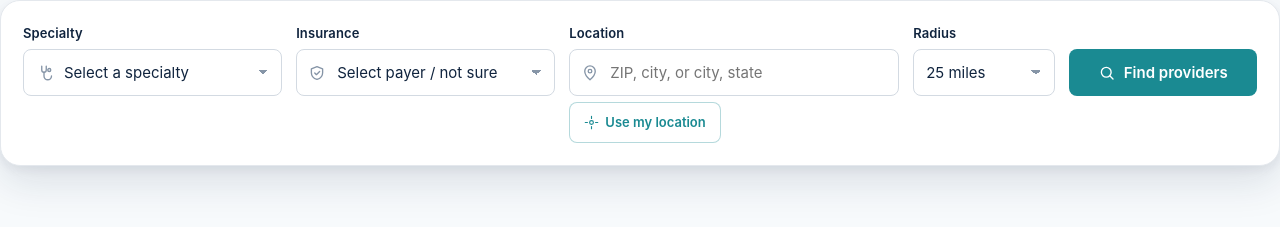
Scenario: SearchForm › shows a non-blocking message when the selected payer has no integrated plan data
Select "Aetna" in the dropdown labelled "Insurance": (426, 73) top-left (296, 49), bottom-right (555, 96)
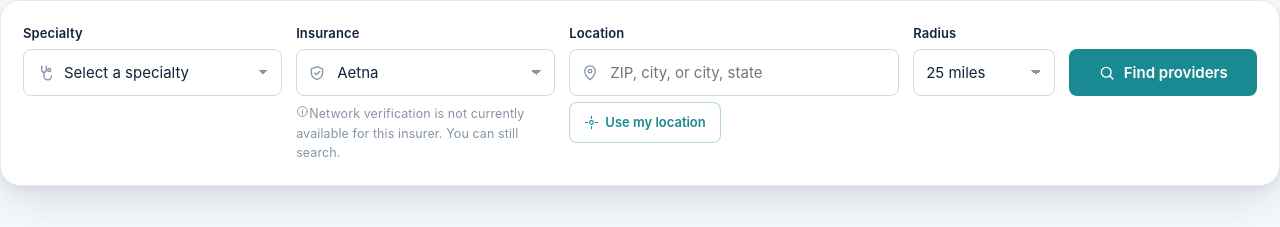
Expected: the button "Find providers" is enabled, top-left (1068, 49), bottom-right (1257, 96)
Expected: the text "Network verification is not currently available" is shown, top-left (296, 106), bottom-right (524, 160)
